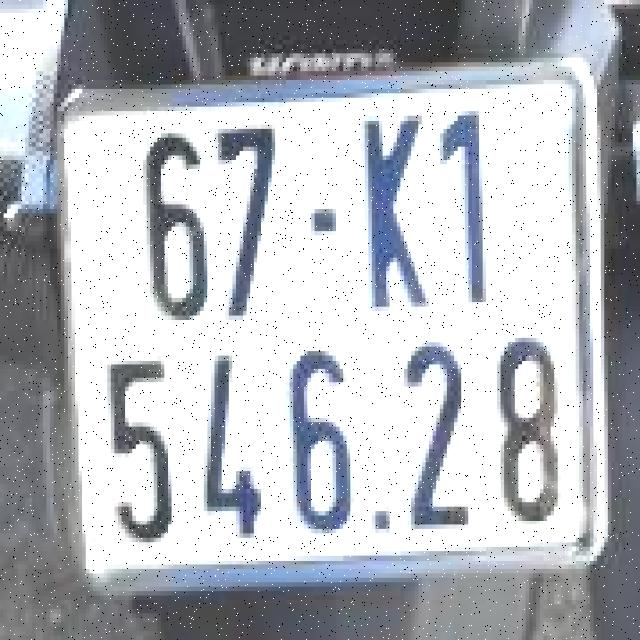1: (445, 97, 506, 316)
2: (402, 336, 484, 540)
4: (197, 340, 268, 549)
5: (102, 342, 180, 556)
6: (128, 118, 222, 331), (279, 344, 361, 549)
7: (216, 107, 288, 333)
8: (492, 338, 570, 529)
K: (347, 107, 436, 320)
